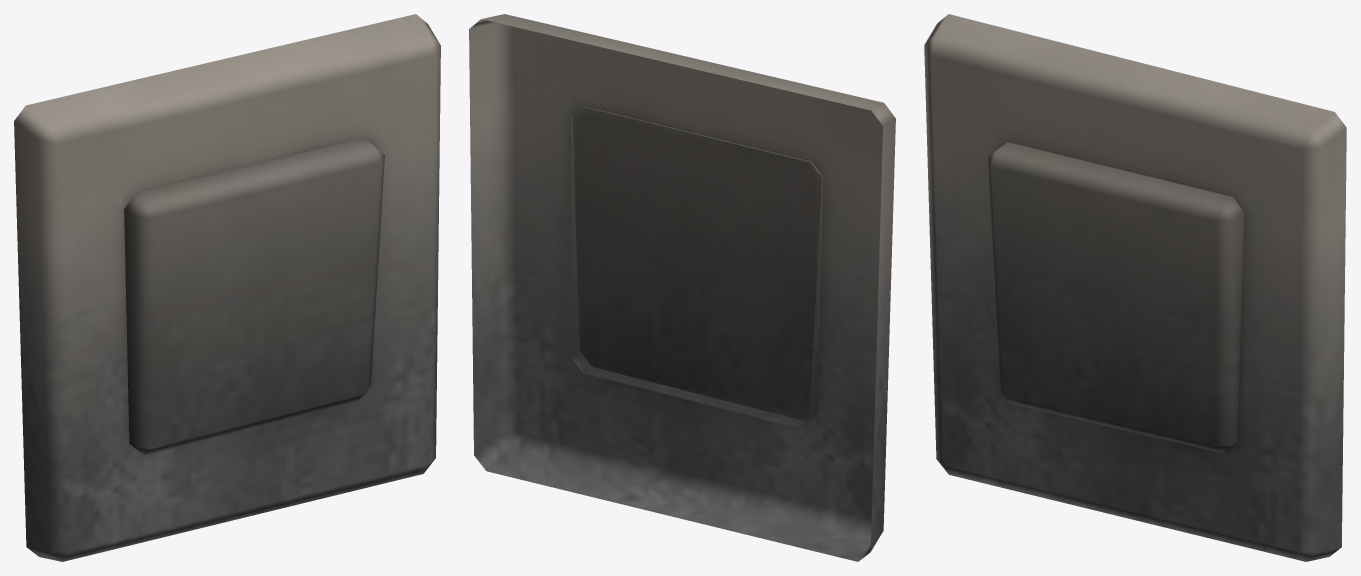
File: SM_LightSwitch001.glb
3 views of the same model, side by side, from view 1: azimuth 30°, elevation 25°; view 2: azimuth 150°, elevation 25°; view 3: azimuth 330°, elevation 25° (orthographic).
Parts seen in each view (by area): view 1: SM_LightSwitch001, LightSwitch.001; view 2: SM_LightSwitch001, LightSwitch.001; view 3: SM_LightSwitch001, LightSwitch.001.
Part boxes in pixels (<box>): SM_LightSwitch001: <box>14,14,440,561</box>; LightSwitch.001: <box>124,138,384,454</box>; SM_LightSwitch001: <box>469,14,895,561</box>; LightSwitch.001: <box>571,106,823,427</box>; SM_LightSwitch001: <box>924,14,1346,561</box>; LightSwitch.001: <box>986,142,1244,452</box>.
Size of the model in its own units: 0.1705 by 0.1788 by 0.0301.
Materials: 1 (1 with a texture image).
